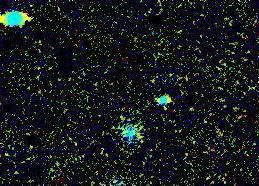star: (141, 67, 171, 97)
